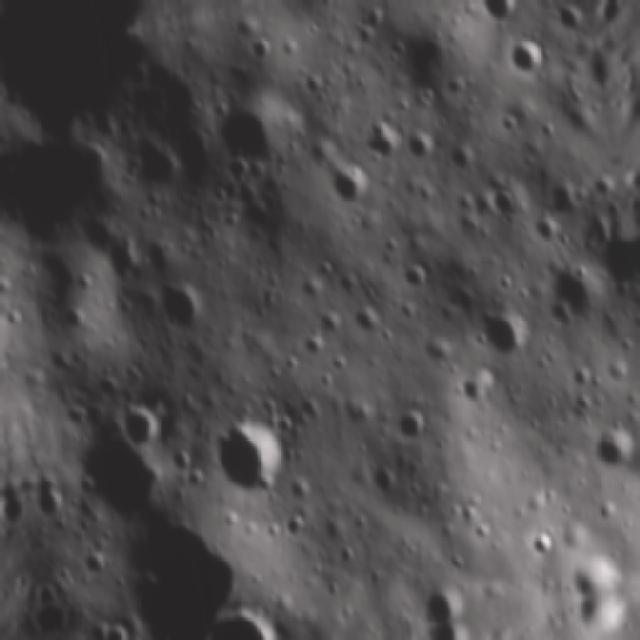crater: (0, 124, 129, 244), (203, 97, 294, 185), (213, 416, 289, 492), (153, 275, 216, 333), (112, 400, 173, 455), (194, 604, 283, 640), (477, 308, 537, 361), (323, 158, 382, 210), (410, 579, 467, 626), (586, 424, 634, 470), (393, 250, 439, 298), (480, 178, 526, 224), (503, 39, 549, 78), (388, 402, 427, 446), (476, 0, 530, 31), (93, 617, 147, 640), (315, 306, 347, 340), (526, 524, 557, 558), (298, 333, 328, 364)
